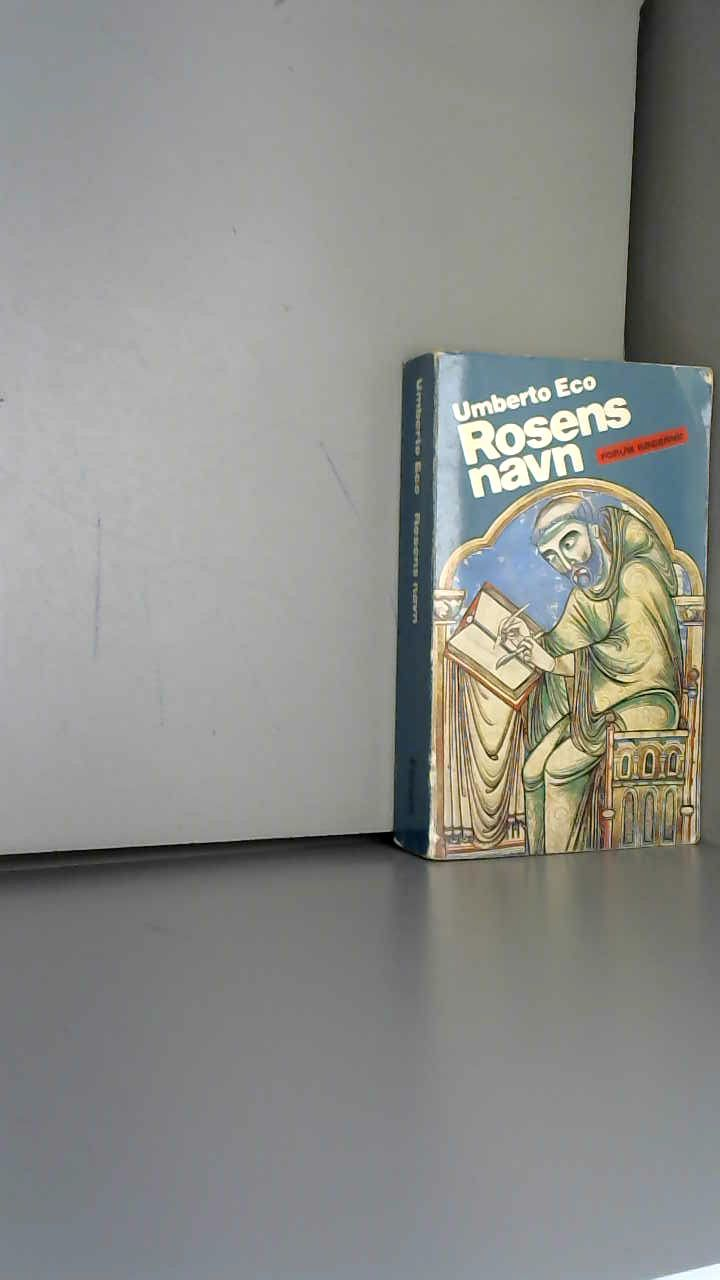book: (370, 320, 720, 936)
